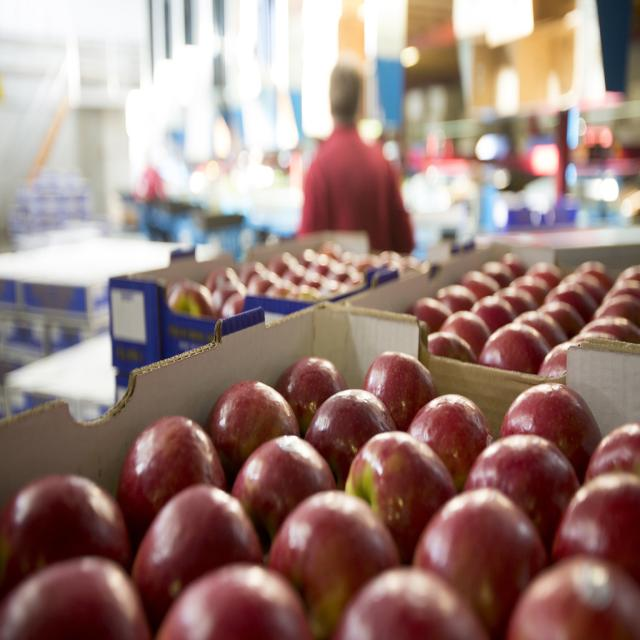Healty Apple: (0, 352, 640, 640), (404, 252, 639, 378), (166, 237, 422, 315), (204, 386, 294, 474)
